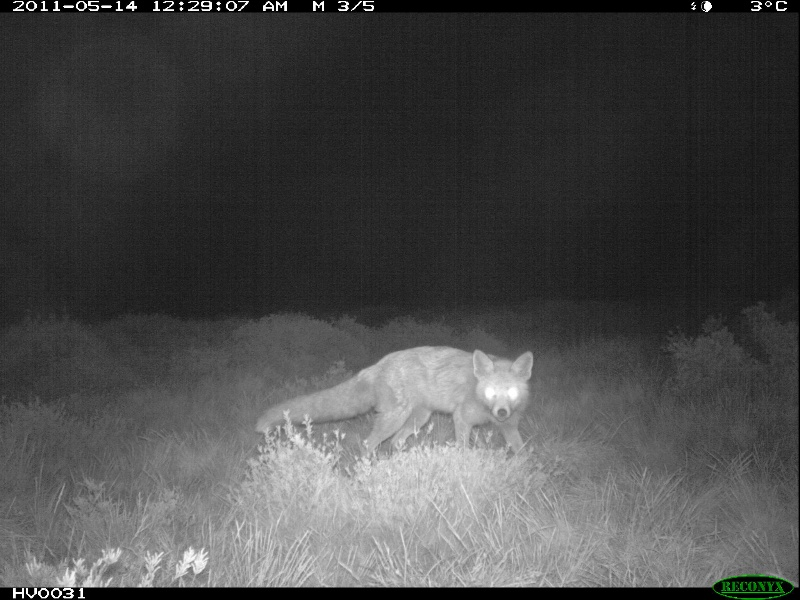fox: (252, 340, 539, 461)
